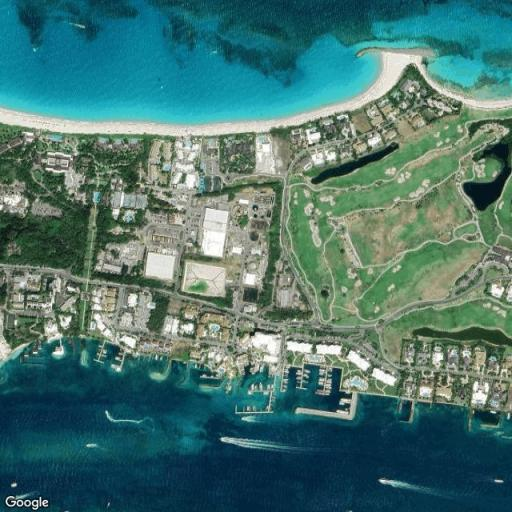ship: (379, 478, 448, 498), (219, 437, 294, 451), (104, 410, 149, 423), (17, 491, 40, 498), (242, 416, 258, 422), (337, 410, 349, 414), (341, 399, 352, 403), (494, 479, 504, 483), (105, 502, 111, 508), (319, 378, 324, 385), (506, 412, 510, 420), (259, 382, 263, 390), (87, 444, 97, 447), (320, 370, 326, 375), (304, 373, 309, 379), (490, 411, 498, 414), (327, 381, 333, 385), (306, 370, 312, 374), (115, 357, 121, 361), (155, 354, 159, 360), (265, 405, 269, 411), (285, 369, 289, 374), (326, 384, 331, 388), (296, 376, 301, 380), (251, 384, 254, 390), (255, 384, 258, 390), (283, 378, 289, 381), (295, 373, 301, 376), (34, 351, 38, 355), (473, 409, 476, 414), (247, 406, 250, 411), (267, 384, 270, 389), (284, 381, 289, 384), (160, 356, 163, 361), (284, 385, 288, 388), (98, 345, 102, 348), (24, 355, 29, 357), (327, 379, 331, 381)
